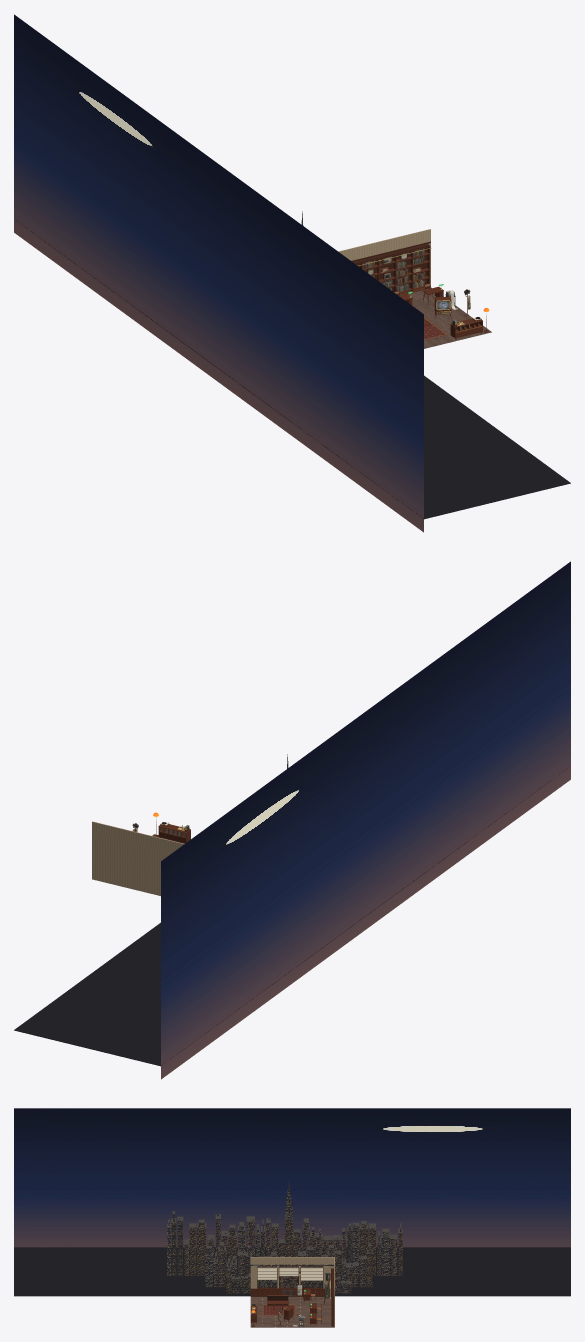
File: office-v31c.glb
3 views of the same model, one above another, from view 1: azimuth 30°, elevation 25°; view 2: azimuth 150°, elevation 25°; view 3: azimuth 270°, elevation 25° (orthographic). The views are drawn at different scales.
Parts seen in each view (by area): view 1: CITY | merged (lite), OFFICE STATIC | merged (lite); view 2: CITY | merged (lite), OFFICE STATIC | merged (lite); view 3: CITY | merged (lite), OFFICE STATIC | merged (lite).
Boxes of the visible parts, x1,y1,x2,y2 form: CITY | merged (lite): (14,14,570,532); OFFICE STATIC | merged (lite): (338,229,491,348); CITY | merged (lite): (14,561,570,1079); OFFICE STATIC | merged (lite): (92,821,184,895); CITY | merged (lite): (14,1108,570,1296); OFFICE STATIC | merged (lite): (250,1257,334,1327).
Size of what is drawn, in the model's own units: 27.35 by 23.5 by 80.
107 materials, 56 textured.
